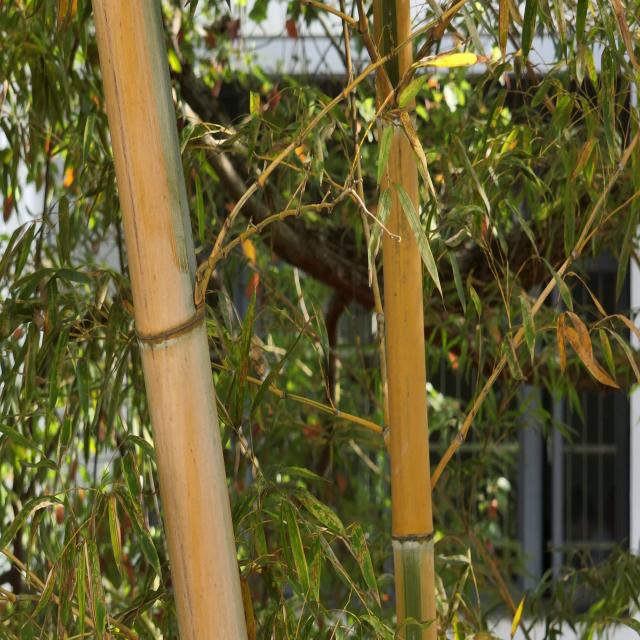Bamboo-shoots: (91, 0, 247, 640)
